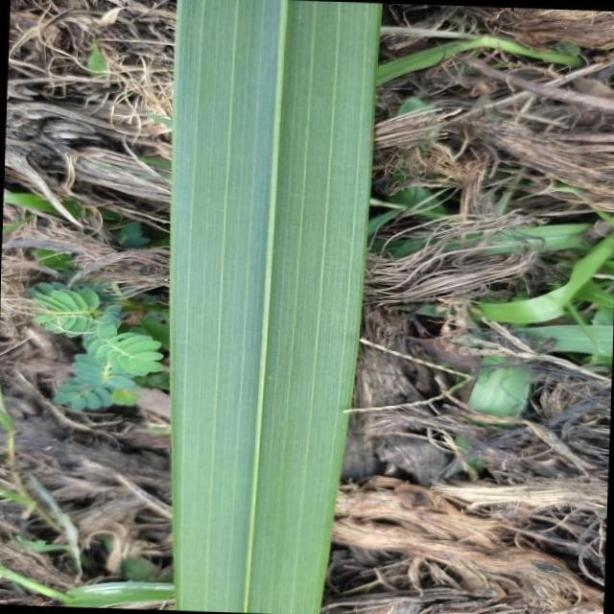Healthy: (166, 0, 379, 614)
